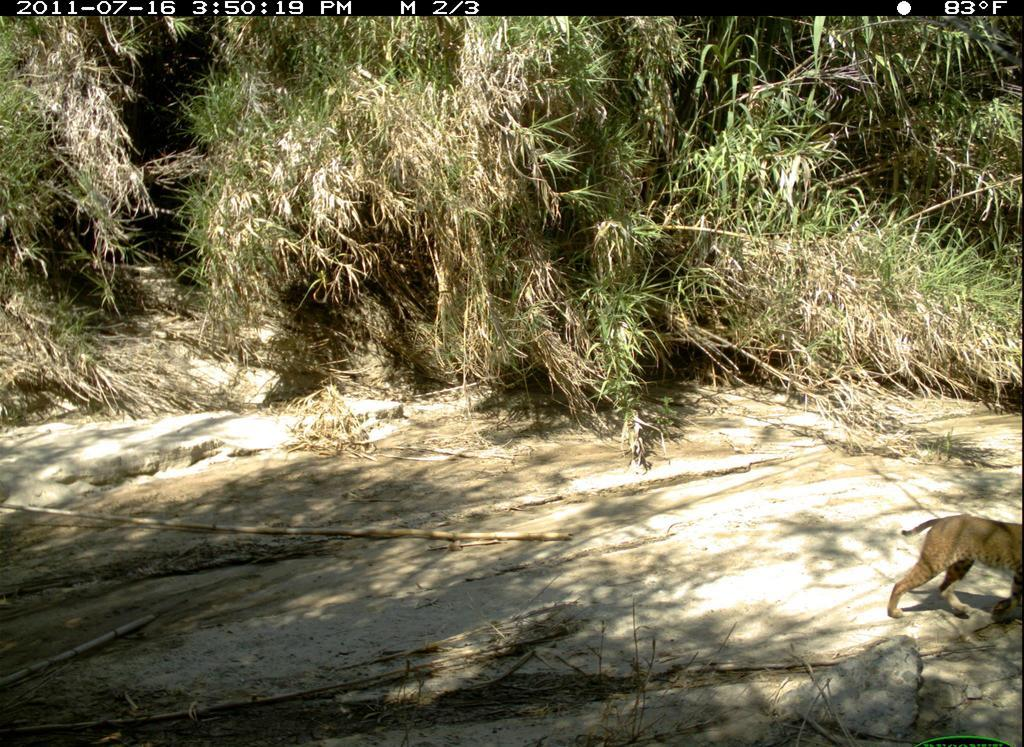bobcat: (876, 507, 1022, 634)
